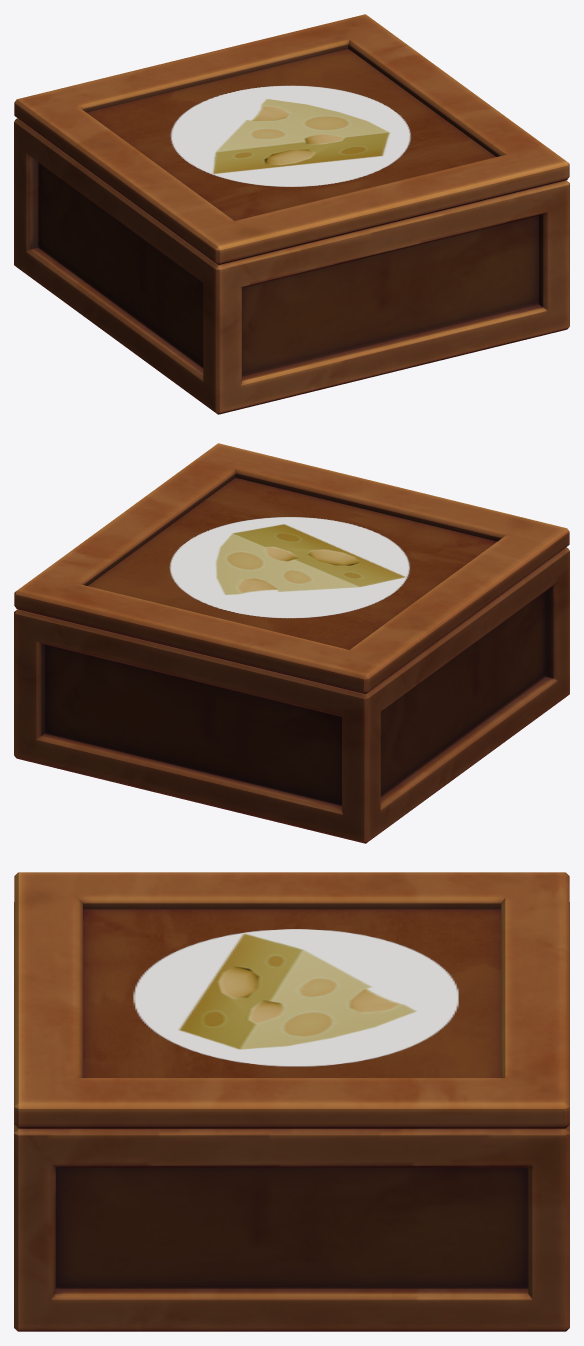
File: cheeseTable.gltf
The picture shows the model from 3 angles, top to bottom: view 1: azimuth 30°, elevation 25°; view 2: azimuth 150°, elevation 25°; view 3: azimuth 270°, elevation 25°; orthographic projection. The views are drawn at different scales.
Parts seen in each view (by area): view 1: box, cover, desktop; view 2: box, cover, desktop; view 3: box, cover, desktop.
Part boxes in pixels (<box>): box: <box>14,118,569,414</box>; cover: <box>14,14,569,264</box>; desktop: <box>87,49,495,220</box>; box: <box>14,547,569,843</box>; cover: <box>14,443,569,693</box>; desktop: <box>88,478,496,649</box>; box: <box>14,902,569,1331</box>; cover: <box>14,872,569,1128</box>; desktop: <box>83,909,500,1077</box>.
Size of the model in its own units: 2 by 0.9061 by 2.
3 materials, 3 textured.
